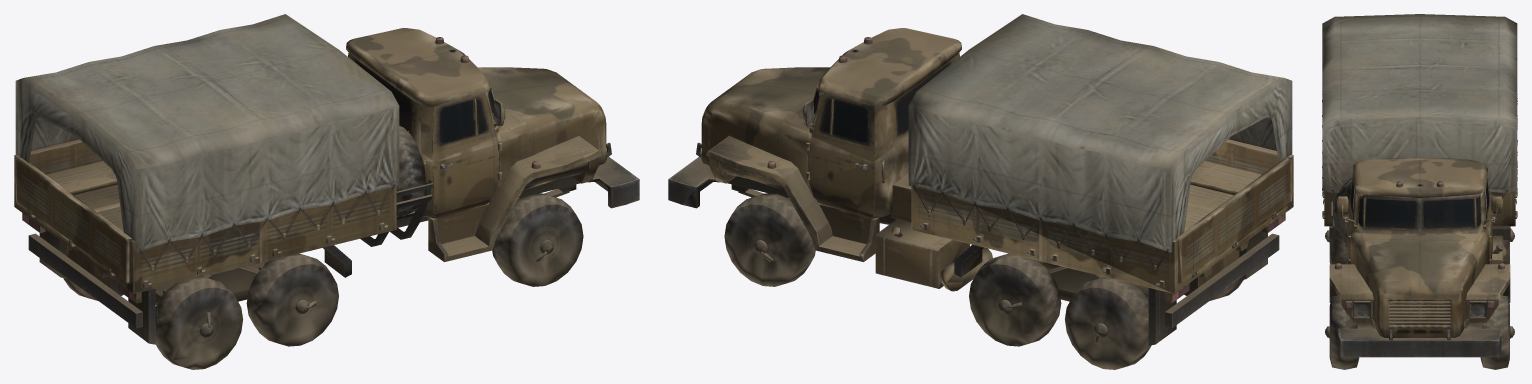
File: fh_battle_e_convoy_truck.glb
The picture shows the model from 3 angles, left to right: view 1: azimuth 30°, elevation 25°; view 2: azimuth 150°, elevation 25°; view 3: azimuth 270°, elevation 25°; orthographic projection. The views are drawn at different scales.
Visible parts, largest first — view 1: convoy_truck, wheel_1r, wheel_2r, wheel_fr; view 2: convoy_truck, wheel_1l, wheel_2l, wheel_fl; view 3: convoy_truck.
Part boxes in pixels (<box>): convoy_truck: <box>14,14,639,344</box>; wheel_1r: <box>246,264,338,346</box>; wheel_2r: <box>155,287,242,369</box>; wheel_fr: <box>492,205,575,286</box>; convoy_truck: <box>668,14,1293,345</box>; wheel_1l: <box>969,264,1061,346</box>; wheel_2l: <box>1065,287,1151,369</box>; wheel_fl: <box>732,205,815,286</box>; convoy_truck: <box>1322,14,1517,369</box>.
Bounding box in the file's own units: 1 × 0.4326 × 0.4039.
2 materials, 2 textured.
